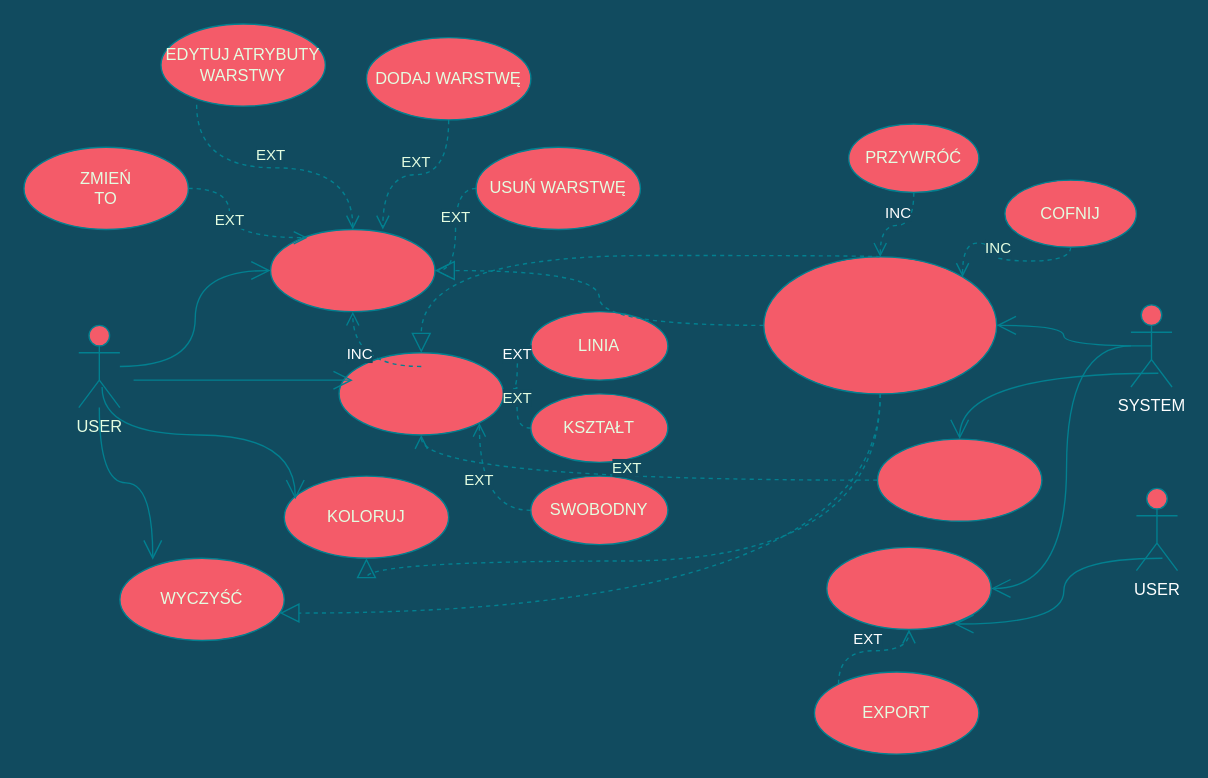
Some shapes in this 1208 by 778 pixel diagram are drawn without their labels. Here are the shapes that lost their labels. From the top down, the centre of each, then its label:
pixel 352 270: MODYFIKUJ WARSTWĘ
pixel 879 325: ZAPAMIĘTAJ ZMIANY
pixel 420 393: RYSUJ
pixel 959 479: POBIERZ
pixel 908 588: ZAPISZ
